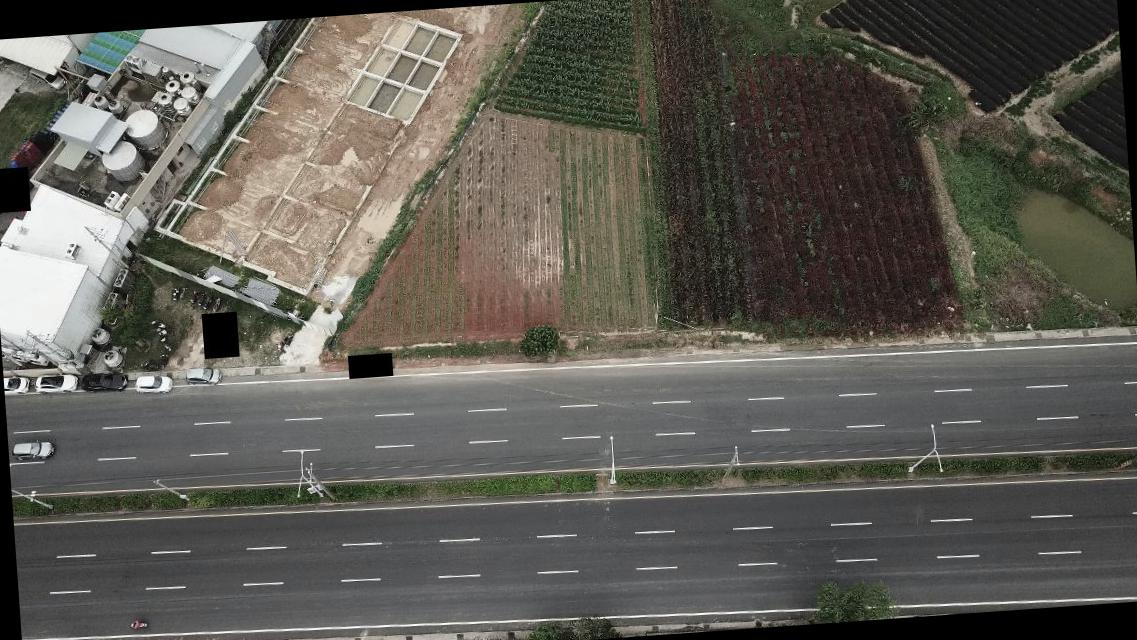vehicle: (26, 62, 65, 94), (9, 436, 54, 462), (78, 371, 126, 394), (32, 372, 78, 396), (132, 372, 175, 396), (182, 365, 224, 387), (2, 372, 28, 397)
